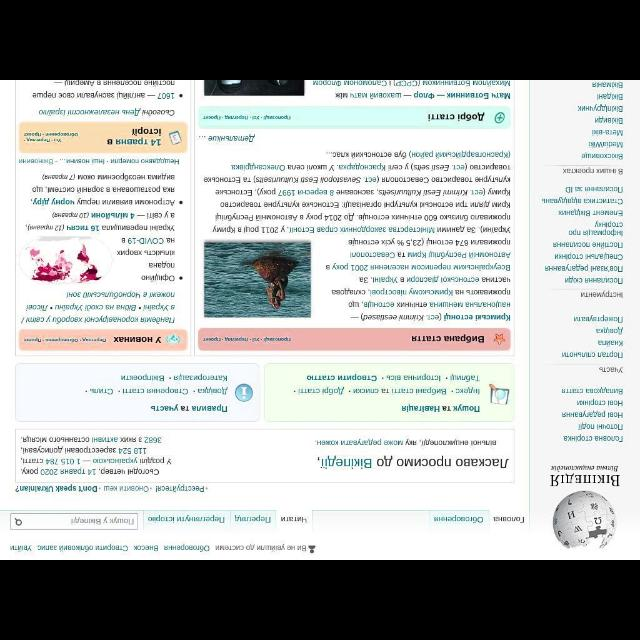icon: (14, 516, 22, 526), (308, 544, 314, 554)
image: (205, 243, 308, 317), (21, 236, 113, 284), (554, 492, 616, 550), (205, 82, 302, 95), (486, 381, 512, 407), (234, 383, 254, 405), (169, 131, 181, 143), (495, 110, 505, 124)
input: (12, 514, 138, 530)
text: (202, 151, 510, 235), (326, 238, 510, 322), (26, 171, 182, 231), (21, 432, 173, 478), (21, 292, 176, 322), (292, 372, 480, 396), (313, 82, 512, 100), (83, 373, 225, 397), (116, 234, 184, 284), (30, 82, 184, 98), (317, 456, 508, 468), (16, 484, 204, 496), (38, 107, 174, 117), (548, 472, 620, 488), (18, 158, 180, 165), (105, 126, 161, 146), (312, 439, 496, 445), (216, 542, 304, 552), (568, 222, 624, 236), (148, 514, 224, 524), (411, 333, 485, 342), (544, 264, 624, 272), (542, 196, 622, 204), (402, 405, 480, 413), (561, 386, 621, 396), (22, 132, 80, 142), (554, 252, 622, 260), (554, 241, 622, 249), (572, 314, 624, 324), (70, 517, 134, 525), (558, 209, 622, 217), (23, 336, 107, 342), (62, 544, 124, 552), (562, 350, 622, 358), (564, 276, 624, 284), (562, 168, 622, 176), (566, 184, 622, 192), (152, 405, 226, 411), (428, 112, 482, 120), (548, 465, 618, 471), (208, 134, 258, 142), (435, 515, 483, 523), (576, 422, 624, 430), (560, 412, 624, 418), (576, 398, 622, 406), (576, 104, 622, 112), (562, 436, 622, 442), (202, 336, 292, 340), (579, 290, 623, 298), (204, 116, 292, 120), (580, 152, 622, 160), (111, 336, 163, 342), (594, 326, 624, 336), (235, 514, 271, 522), (163, 544, 211, 550), (588, 141, 622, 149), (493, 515, 525, 523), (591, 128, 623, 136), (594, 116, 622, 125), (592, 81, 622, 89), (280, 514, 308, 522), (9, 542, 31, 552), (134, 544, 160, 552), (597, 366, 623, 374), (597, 92, 623, 100), (597, 339, 623, 346), (38, 544, 56, 552)
toolbar: (1, 513, 309, 527), (428, 510, 528, 528)
